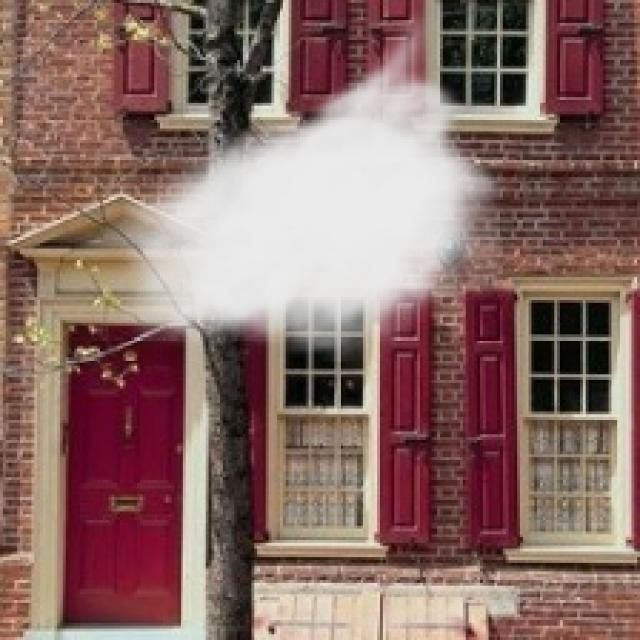smoke: (97, 8, 512, 363)
